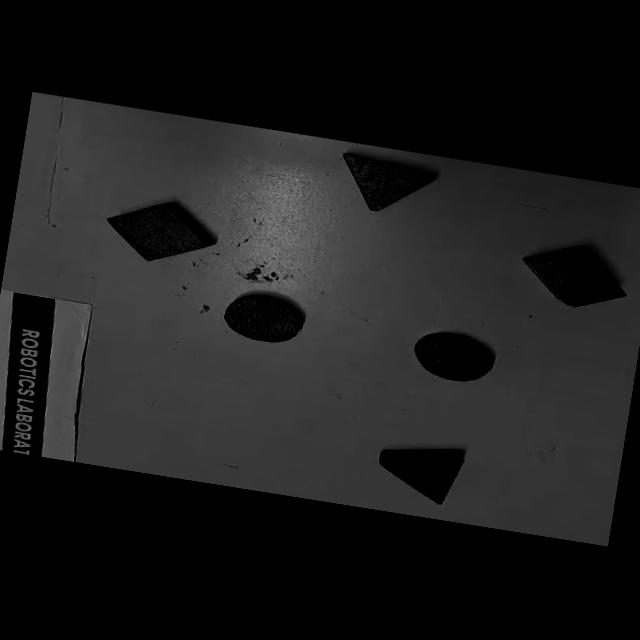bcircle: (220, 290, 308, 348)
bcube: (99, 192, 223, 272)
btriangle: (372, 438, 468, 508)
rcircle: (408, 328, 498, 388)
rcube: (515, 238, 635, 316)
rtriangle: (335, 154, 438, 220)
